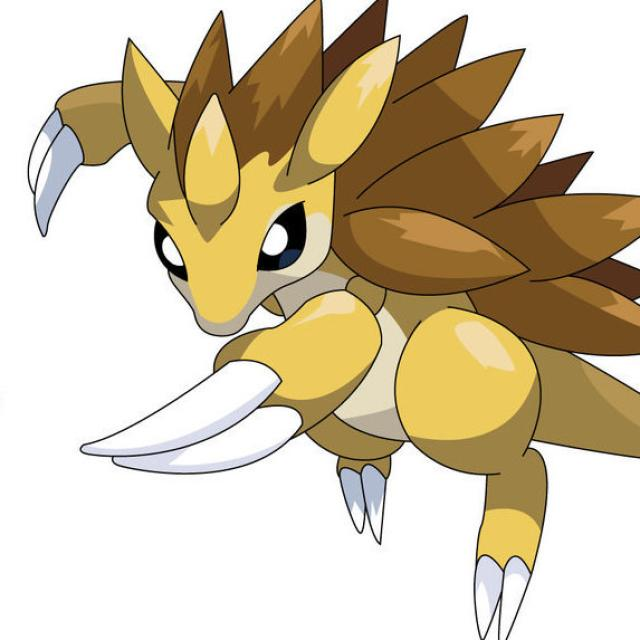Sandslash: (79, 36, 557, 482)
